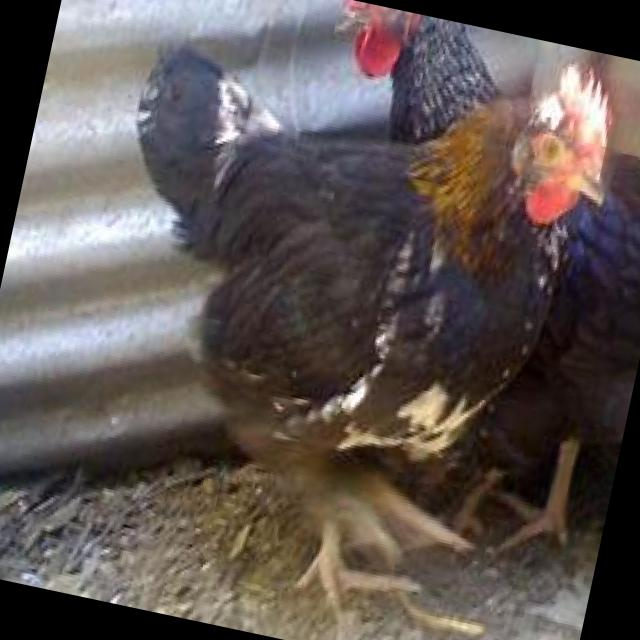animal: (33, 0, 632, 640), (229, 0, 640, 577)
